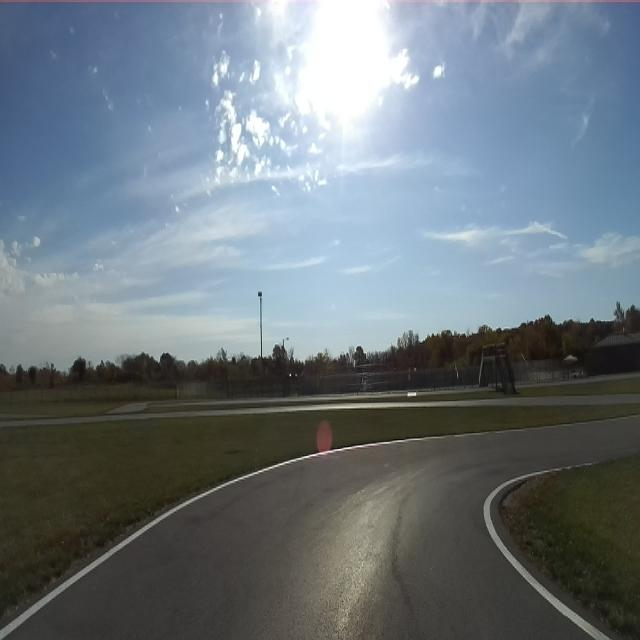white-line: (0, 431, 489, 639), (484, 466, 610, 639)
